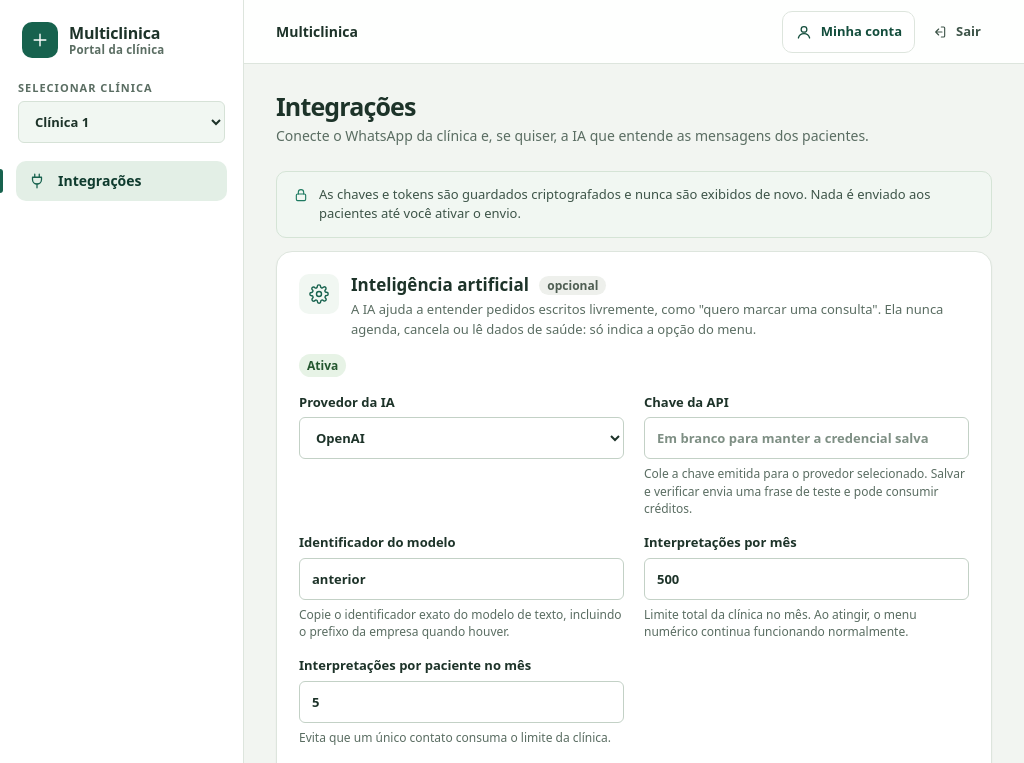
it: trocar o provedor exige chave, modelo e aceite para o novo destino
The width and height of the screenshot is (1024, 763).
Select "provedor-local" in the dropdown labelled "Provedor da IA". click: (462, 438)
box: [299, 417, 624, 459]
(page scrolled)
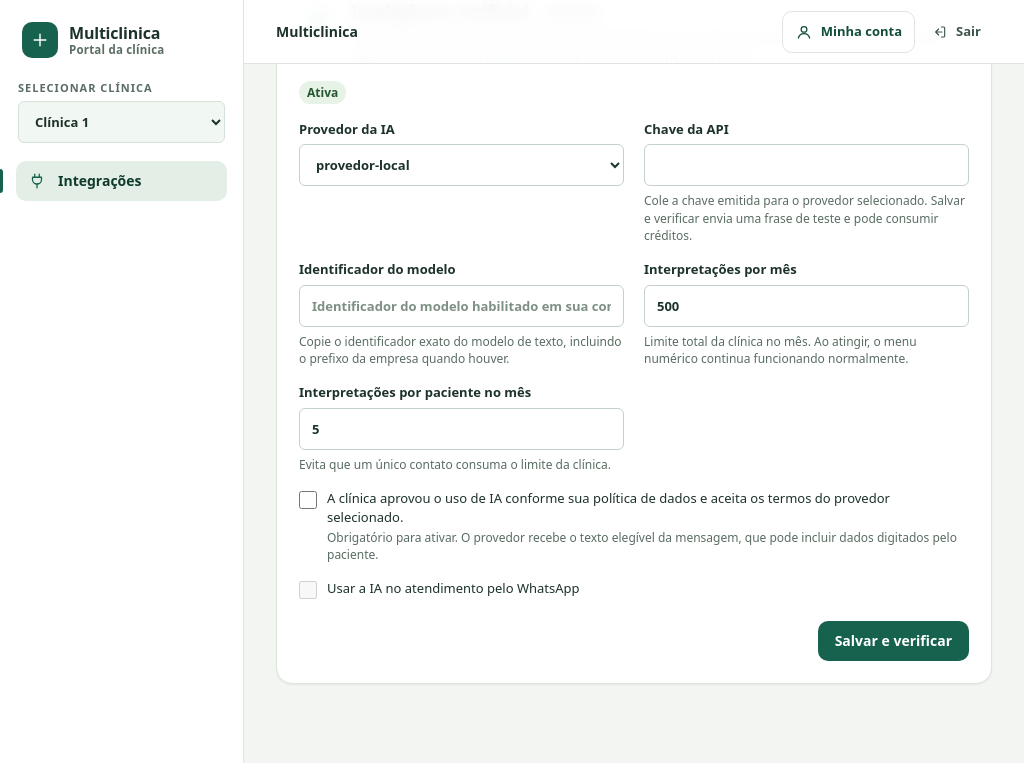
Check: the field labelled "Identificador do modelo" is empty, box [299, 285, 624, 327]
Check: the checkbox labelled "A clínica aprovou" is not checked, box [299, 491, 317, 509]
Check: the checkbox labelled "Usar a IA no atendimento pelo WhatsApp" is disabled, box [299, 582, 317, 600]
